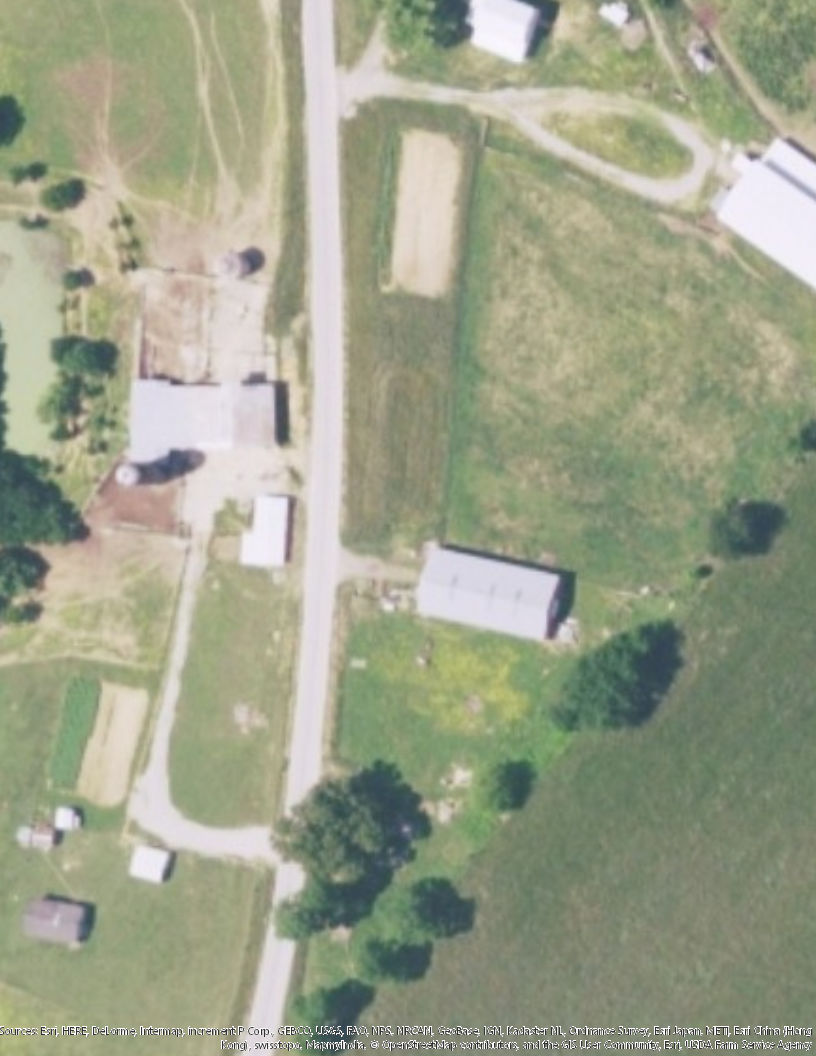cafo: (105, 372, 293, 474), (705, 125, 816, 295), (409, 537, 574, 649)
